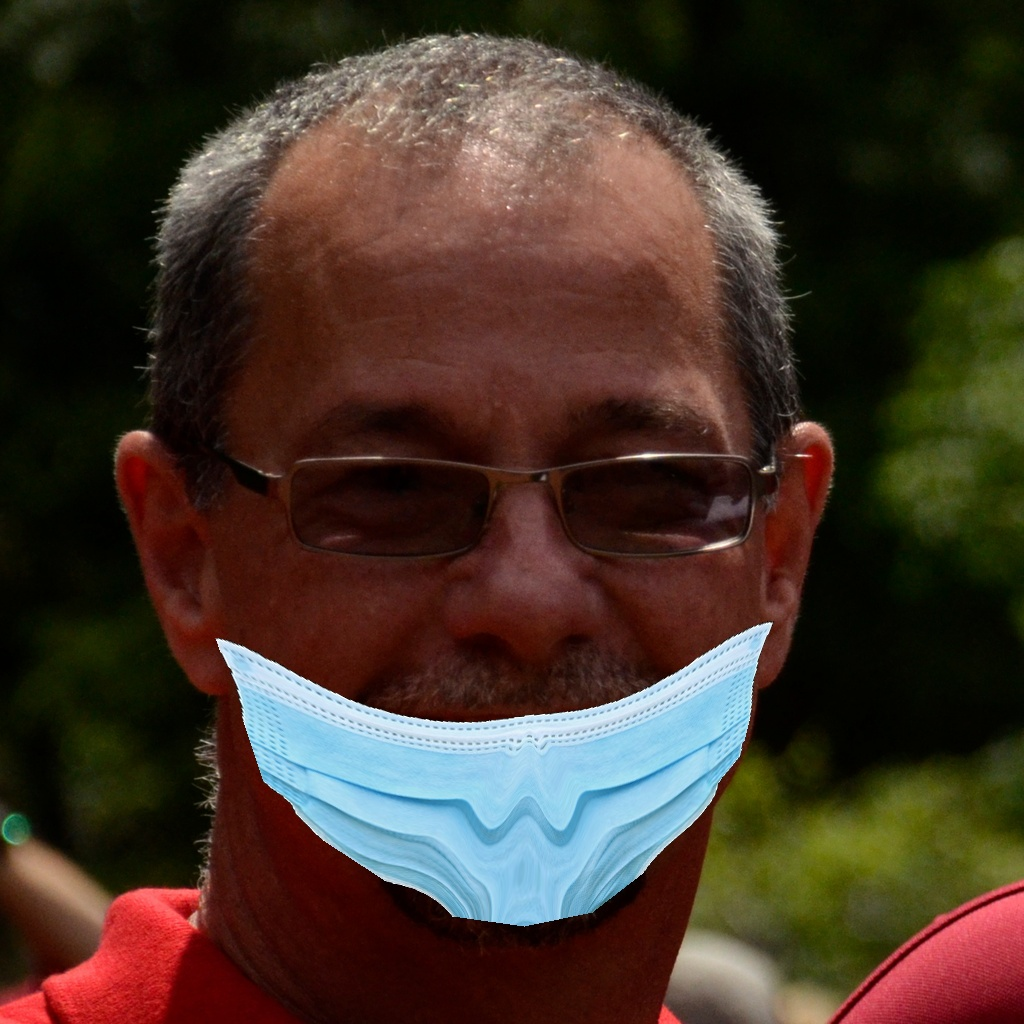mascarilla_mal_puesta: (159, 330, 739, 948)
